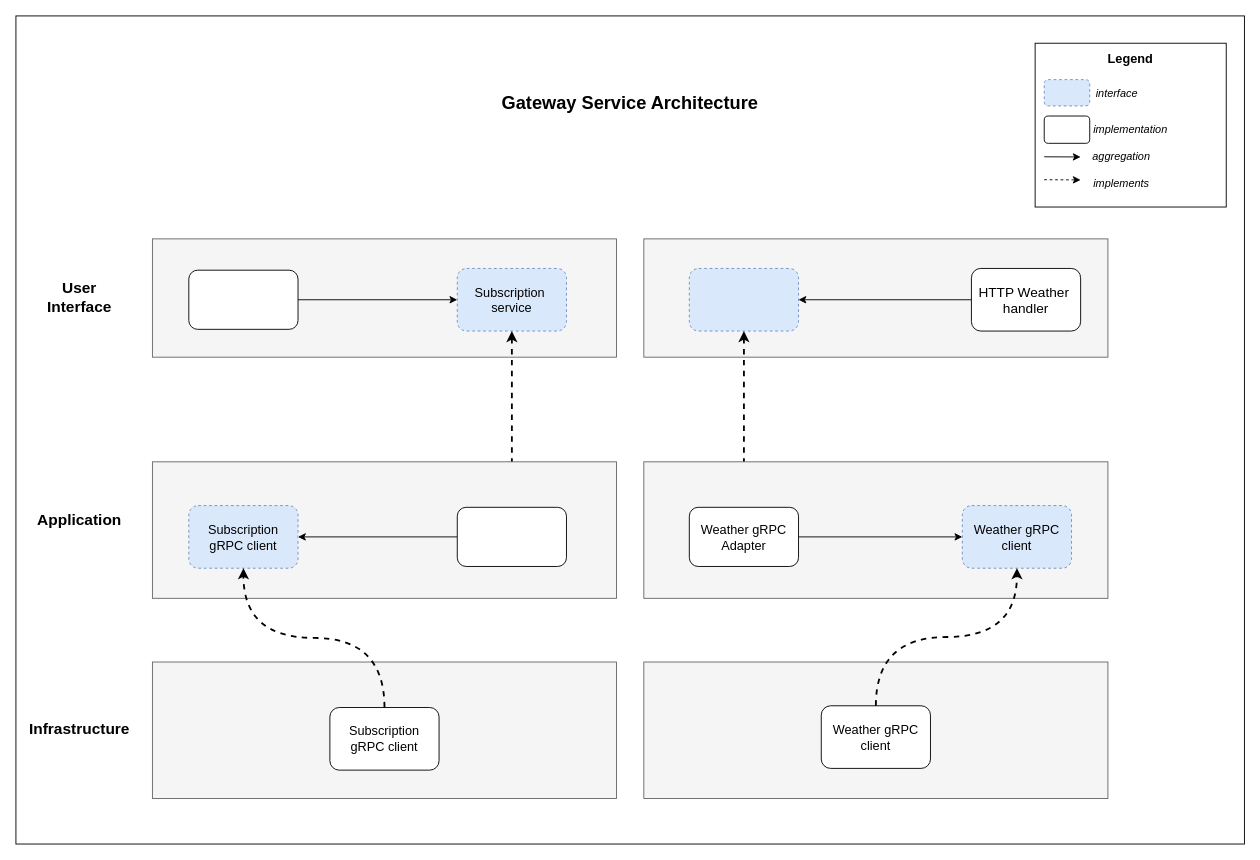
The diagram is 1260 pixels wide and 860 high, and some of its shapes have lost their labels. Each missing label, with the centre of its shape:
HTTP Subscription handlers: point (243, 299)
Subscription gRPC Adapter: point (511, 536)
Weather service: point (743, 299)
